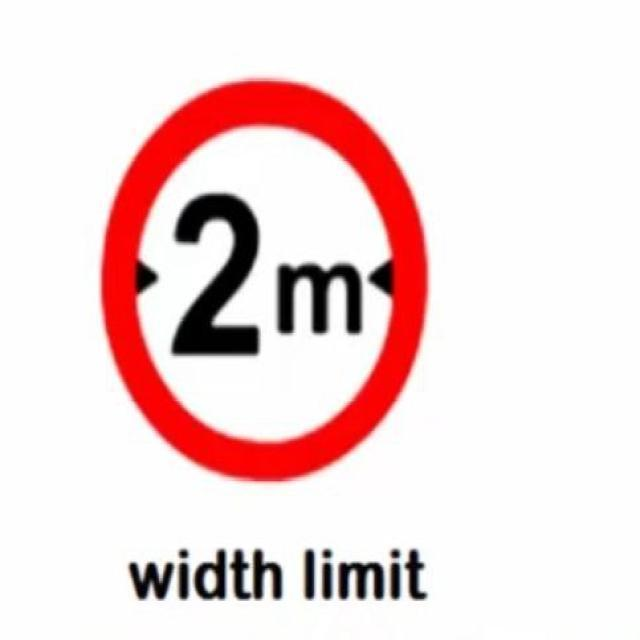width limit: (101, 81, 427, 483)
